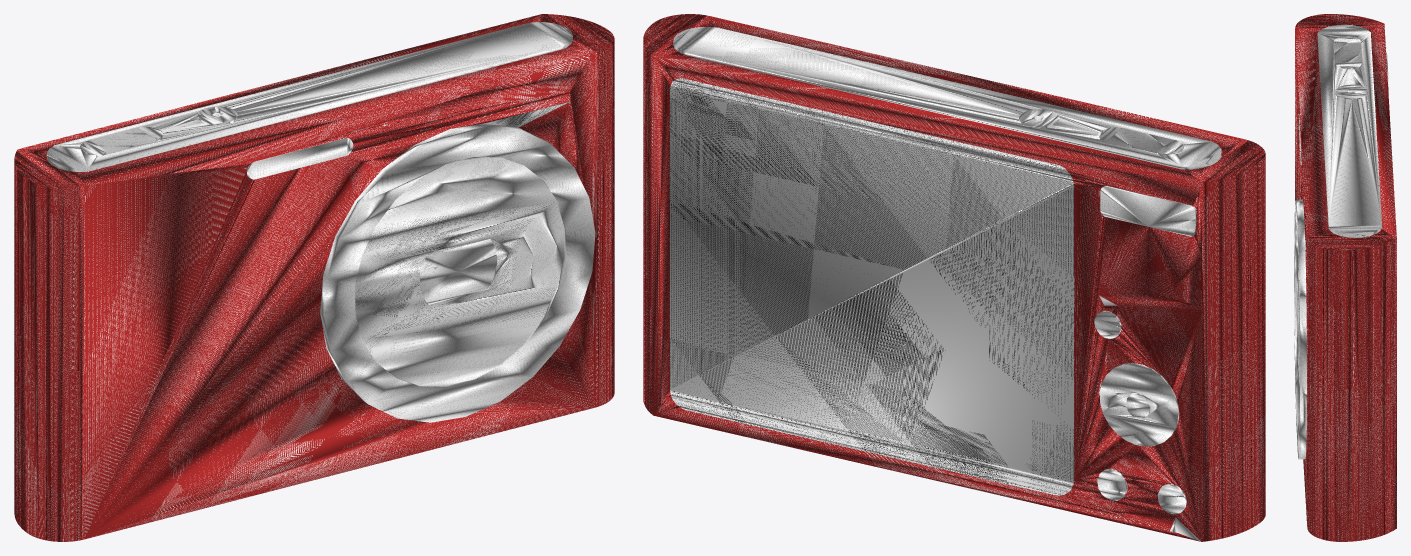
The model's file is model_align.obj.
3 renders of one model, left to right at view 1: azimuth 30°, elevation 25°; view 2: azimuth 150°, elevation 25°; view 3: azimuth 270°, elevation 25°, orthographic. The views are drawn at different scales.
Bounding box in the file's own units: 0.1454 × 0.0846 × 0.0267.
